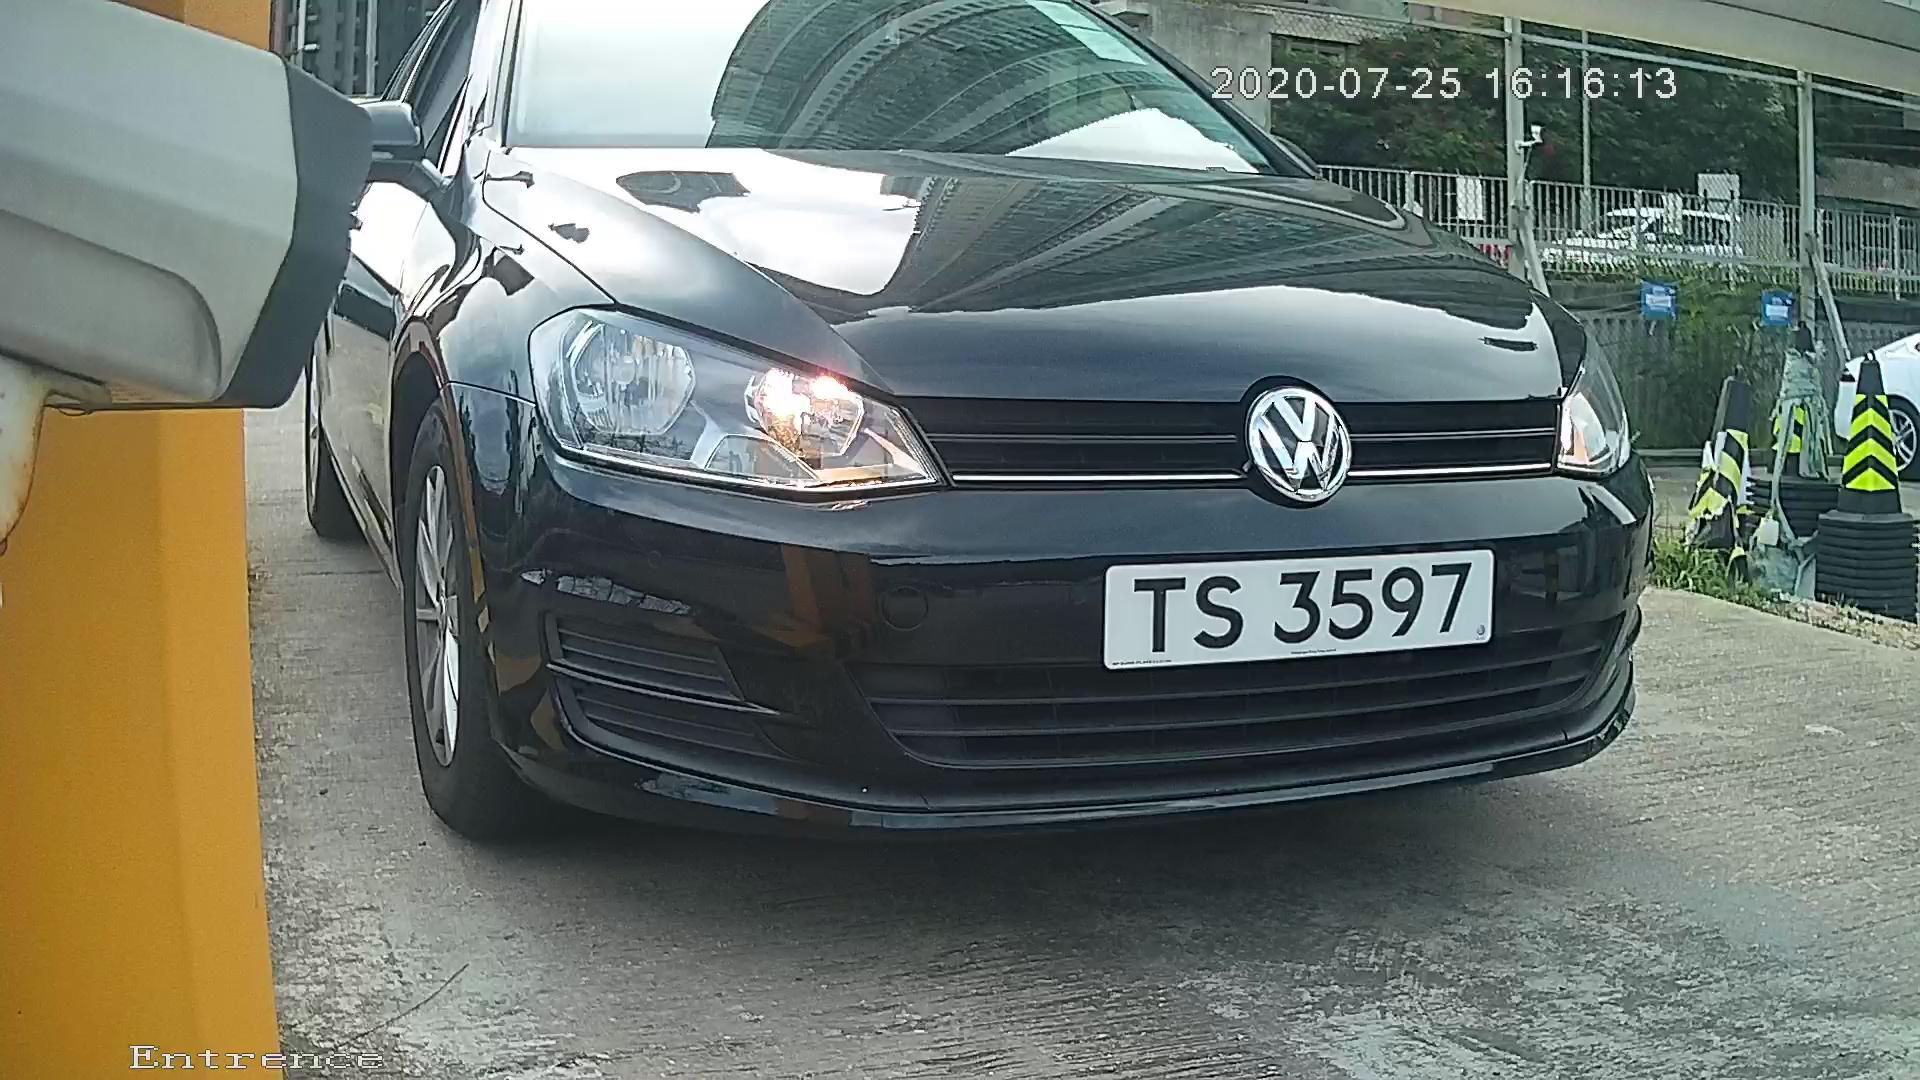License Plate: (1072, 541, 1518, 671)
